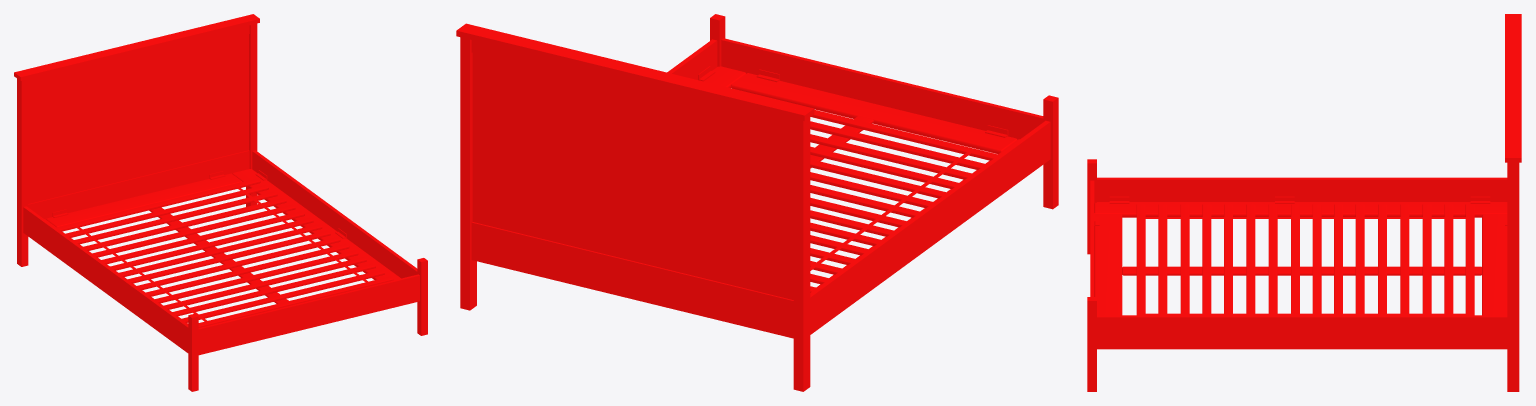
Rendered from SM_Bed_Blockout.glb.
The picture shows the model from 3 angles, left to right: view 1: azimuth 30°, elevation 25°; view 2: azimuth 150°, elevation 25°; view 3: azimuth 270°, elevation 25°; orthographic projection. The views are drawn at different scales.
Visible parts, largest first — view 1: SM_Bed_Blockout_LOD0; view 2: SM_Bed_Blockout_LOD0; view 3: SM_Bed_Blockout_LOD0.
Boxes of the visible parts, <box> form: SM_Bed_Blockout_LOD0: <box>14,14,427,391</box>; SM_Bed_Blockout_LOD0: <box>456,14,1058,391</box>; SM_Bed_Blockout_LOD0: <box>1087,14,1521,391</box>.
Size of what is drawn, in the model's own units: 2.31 by 1.76 by 2.94.
1 material, 1 textured.
